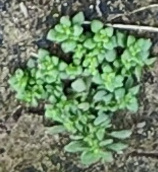马蹄金: (19, 16, 149, 147)
